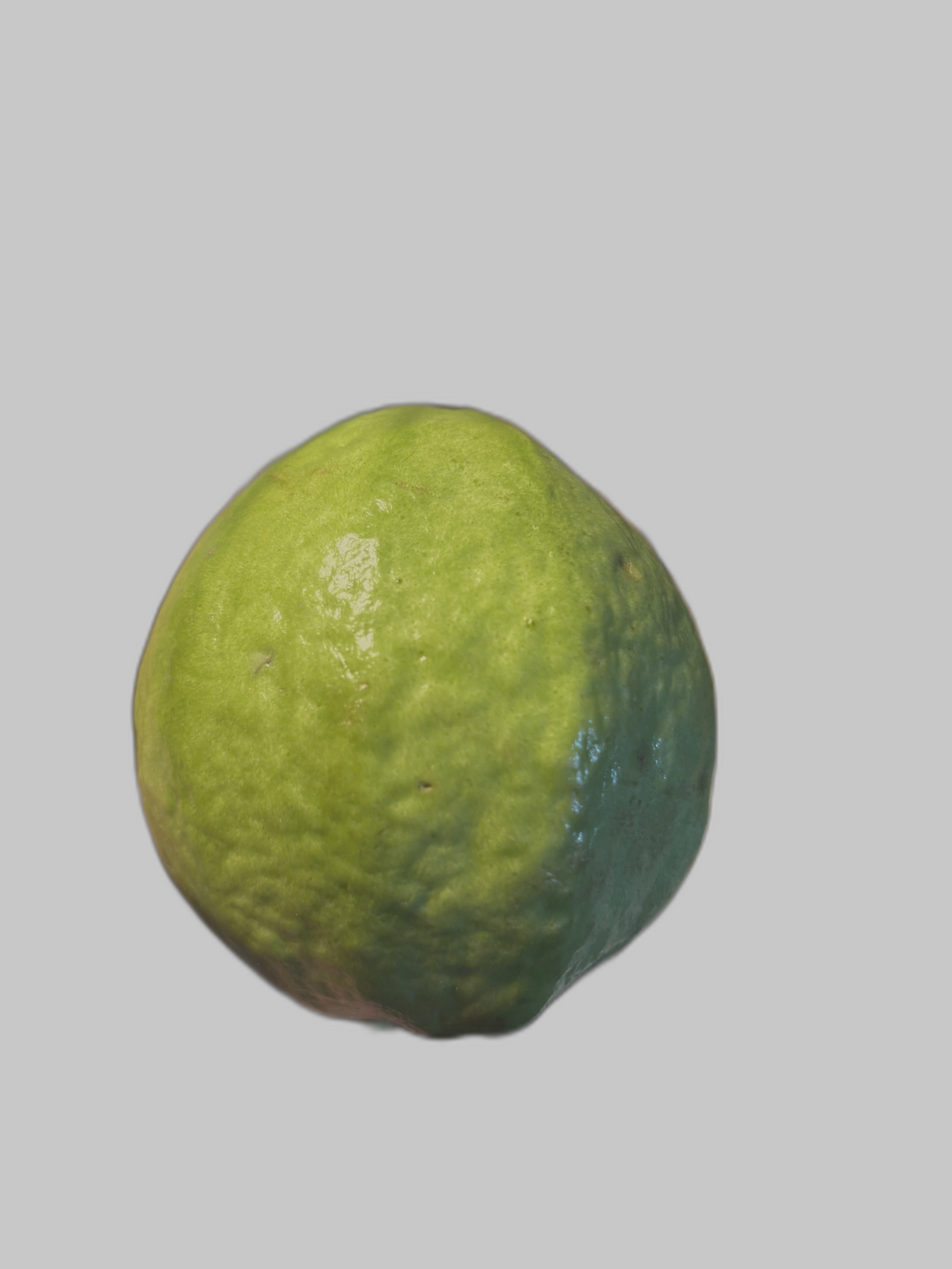guava: (220, 202, 890, 1180)
